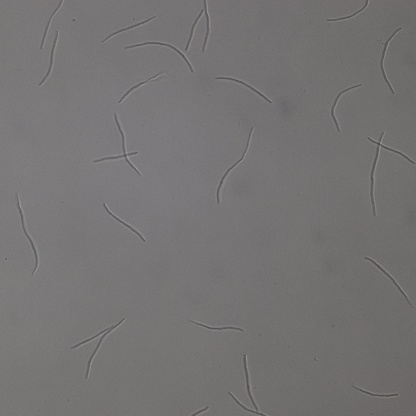Sensitive: (366, 129, 416, 217), (69, 317, 124, 378), (93, 112, 142, 175), (217, 126, 255, 203), (365, 256, 416, 309), (226, 354, 266, 416), (125, 40, 193, 70), (16, 192, 39, 275), (329, 83, 361, 135), (104, 203, 146, 241), (380, 27, 403, 94), (218, 75, 272, 103), (185, 1, 211, 53), (103, 15, 154, 41), (39, 31, 63, 85), (120, 73, 161, 100), (326, 1, 370, 24), (41, 1, 62, 47), (353, 383, 399, 402), (192, 321, 244, 335)
